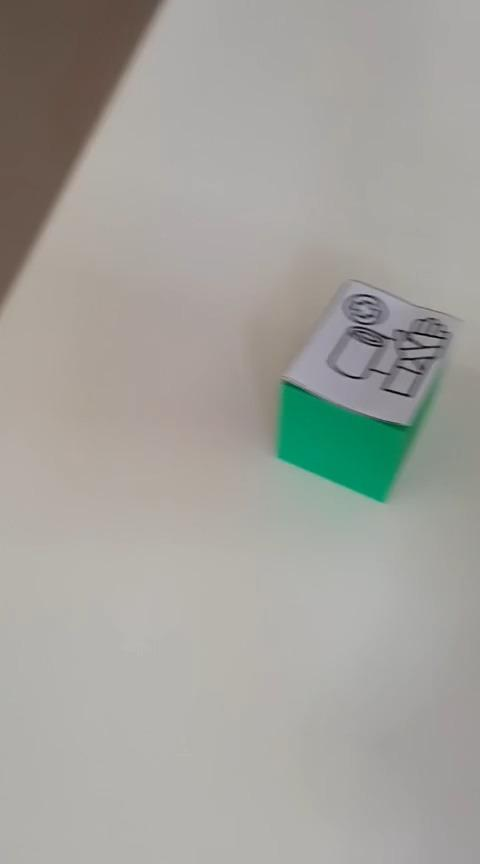Bandages: (274, 277, 463, 503)
